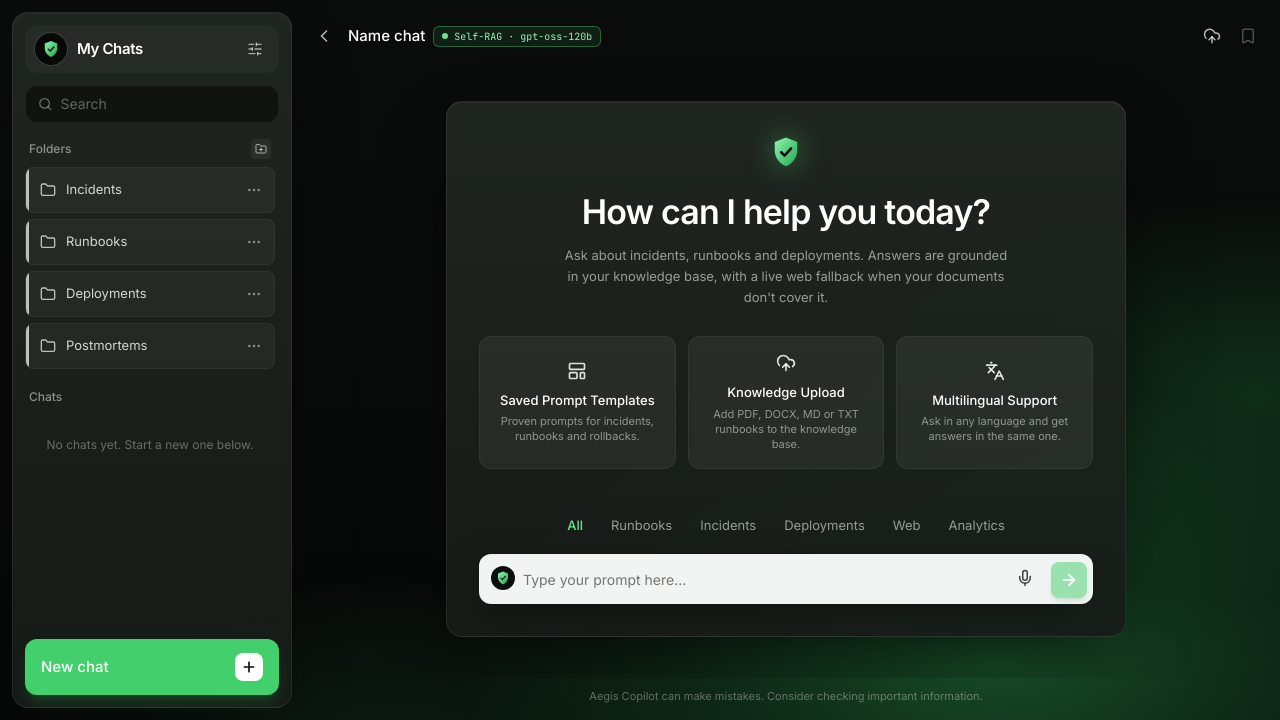
it: ChatApp › can stop a running answer
Type "slow question" into the text box named "Message" at (761, 580), box [523, 562, 999, 598]
Then press Enter
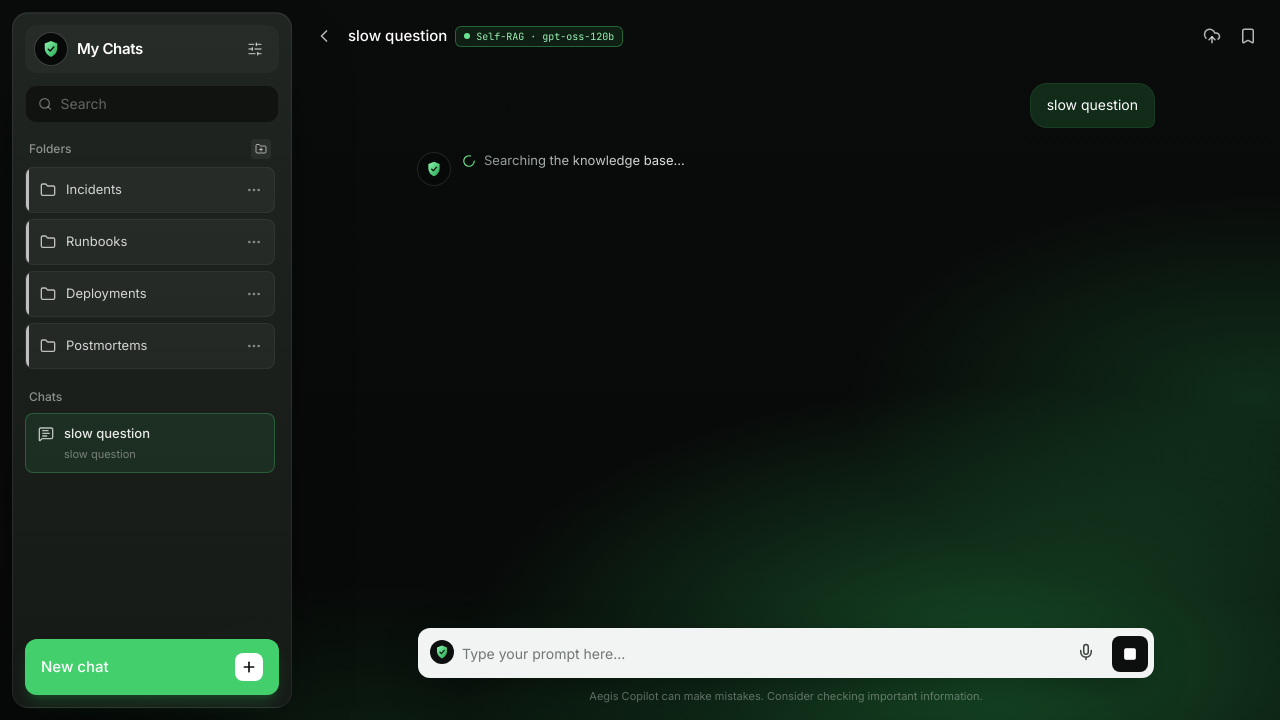
Expected: the text "Searching the knowledge base…" is shown, [484, 151, 685, 170]
Click the button named "Stop generating" at (1130, 654), box [1112, 636, 1148, 672]
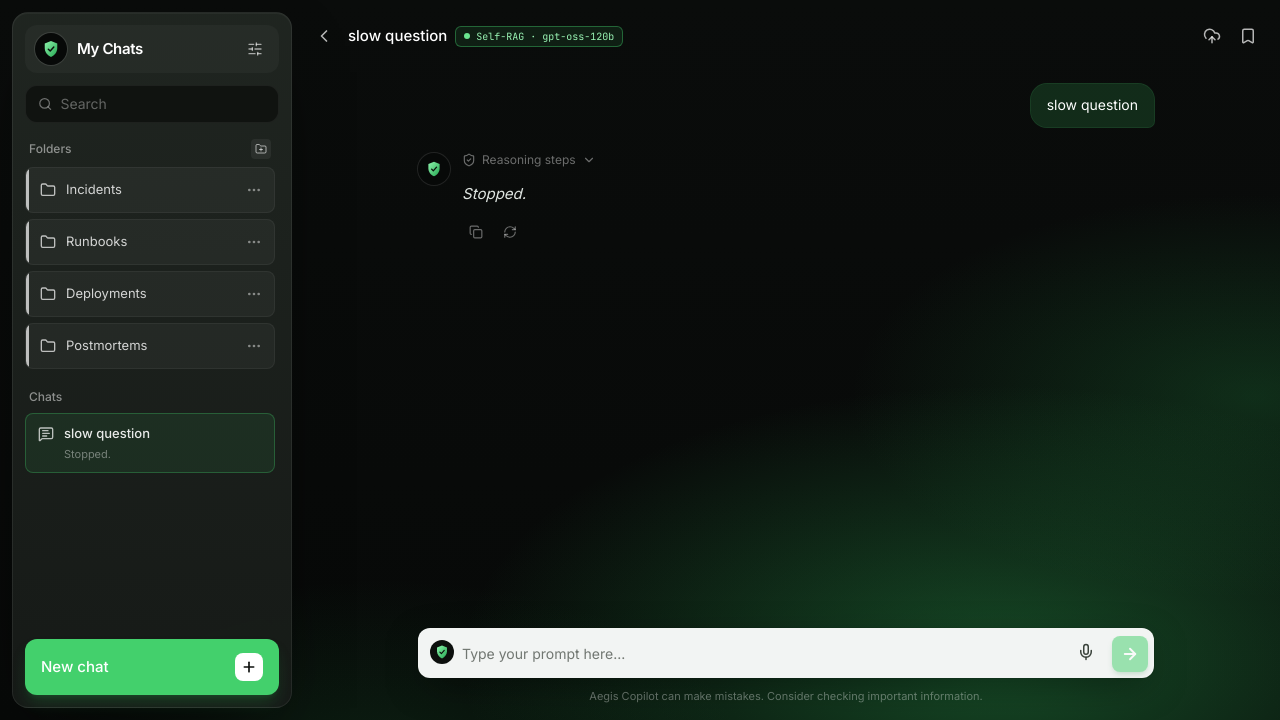
Expected: the 1st text "Stopped." is shown, [462, 184, 526, 203]
Expected: the button named "Send message" is shown, [1112, 636, 1148, 672]
